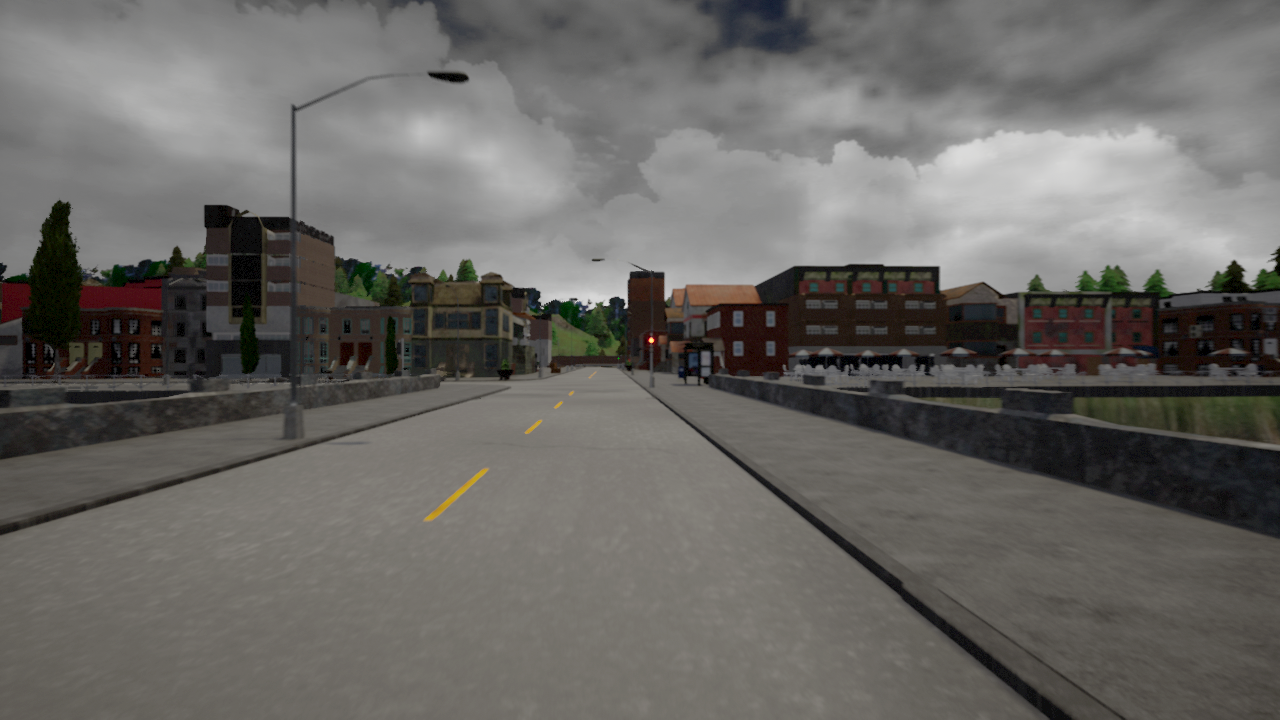red: (648, 335, 655, 354)
